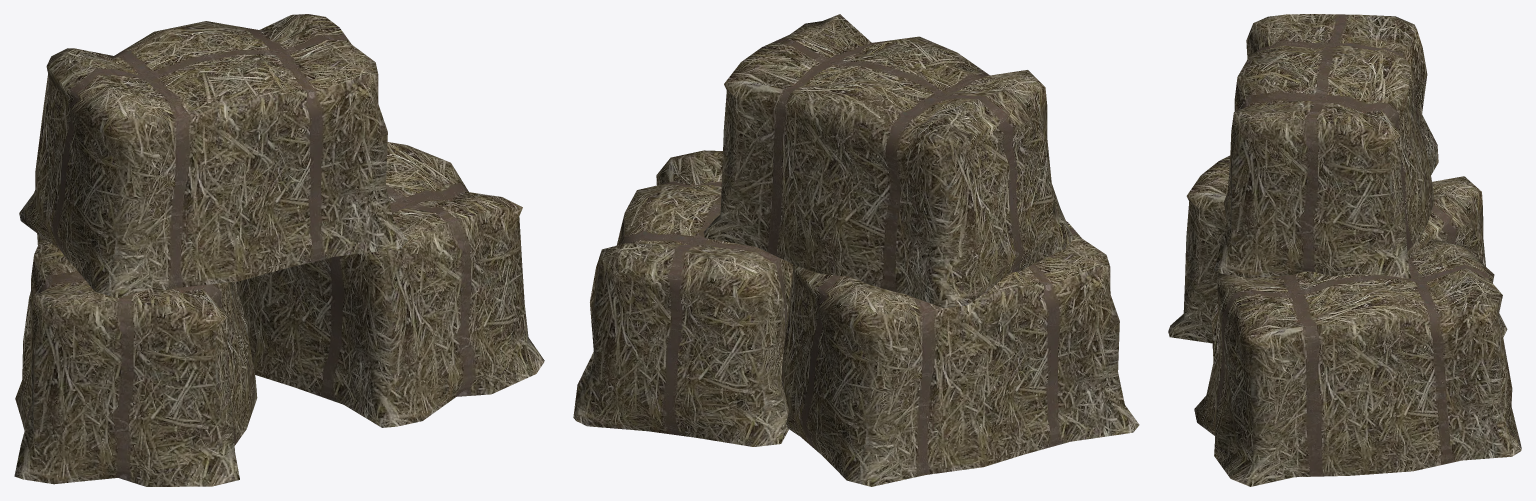
The model's file is SHO_No_Stand_C_Hay-transformed.glb.
The picture shows the model from 3 angles, left to right: view 1: azimuth 30°, elevation 25°; view 2: azimuth 150°, elevation 25°; view 3: azimuth 270°, elevation 25°; orthographic projection. The views are drawn at different scales.
Parts seen in each view (by area): view 1: default; view 2: default; view 3: default.
Part boxes in pixels (x1,y1,x2,y2): default: [14, 14, 544, 486]; default: [573, 14, 1139, 486]; default: [1168, 14, 1521, 486].
Size of the model in its own units: 1.78 by 1.16 by 1.21.
1 material, 1 textured.
